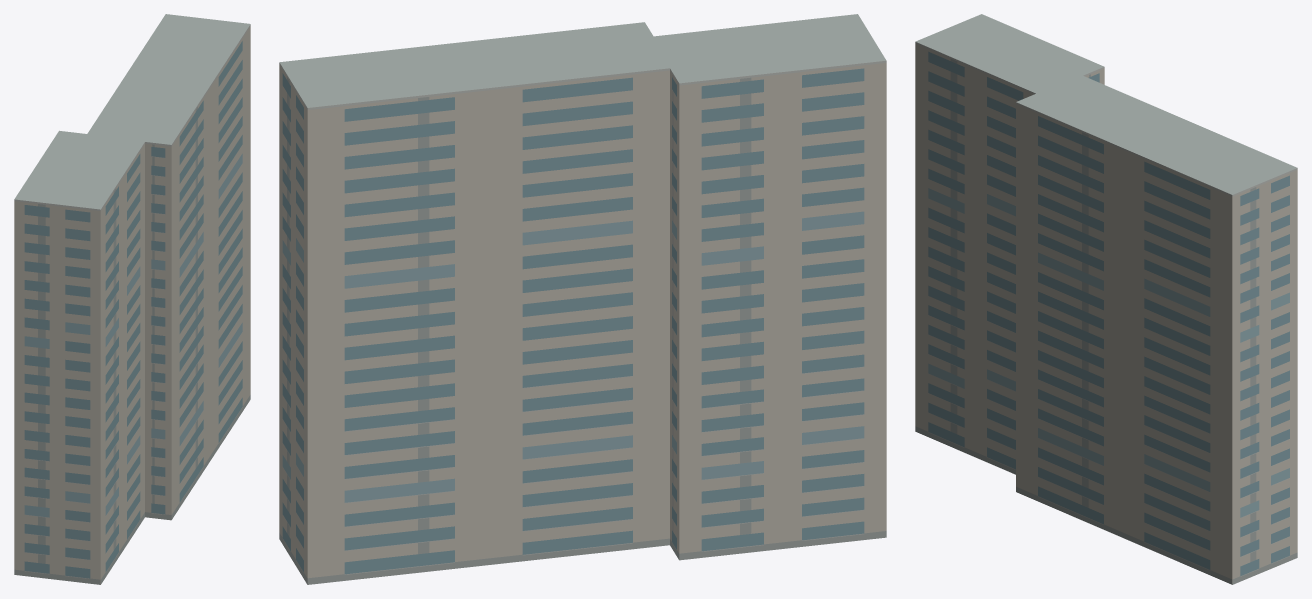
Rendered from residential-896c8480-e356-4dd9-8280-ce77b25afeb3.glb.
The picture shows the model from 3 angles, left to right: view 1: azimuth 30°, elevation 25°; view 2: azimuth 150°, elevation 25°; view 3: azimuth 270°, elevation 25°; orthographic projection. The views are drawn at different scales.
Parts seen in each view (by area): view 1: residential-896c8480-e356-4dd9-8280-ce77b25afeb3.tmp; view 2: residential-896c8480-e356-4dd9-8280-ce77b25afeb3.tmp; view 3: residential-896c8480-e356-4dd9-8280-ce77b25afeb3.tmp.
Boxes of the visible parts, x1,y1,x2,y2 form: residential-896c8480-e356-4dd9-8280-ce77b25afeb3.tmp: [14, 14, 250, 584]; residential-896c8480-e356-4dd9-8280-ce77b25afeb3.tmp: [279, 14, 886, 584]; residential-896c8480-e356-4dd9-8280-ce77b25afeb3.tmp: [915, 14, 1297, 584].
Bounding box in the file's own units: 53.78 × 54 × 48.02.
